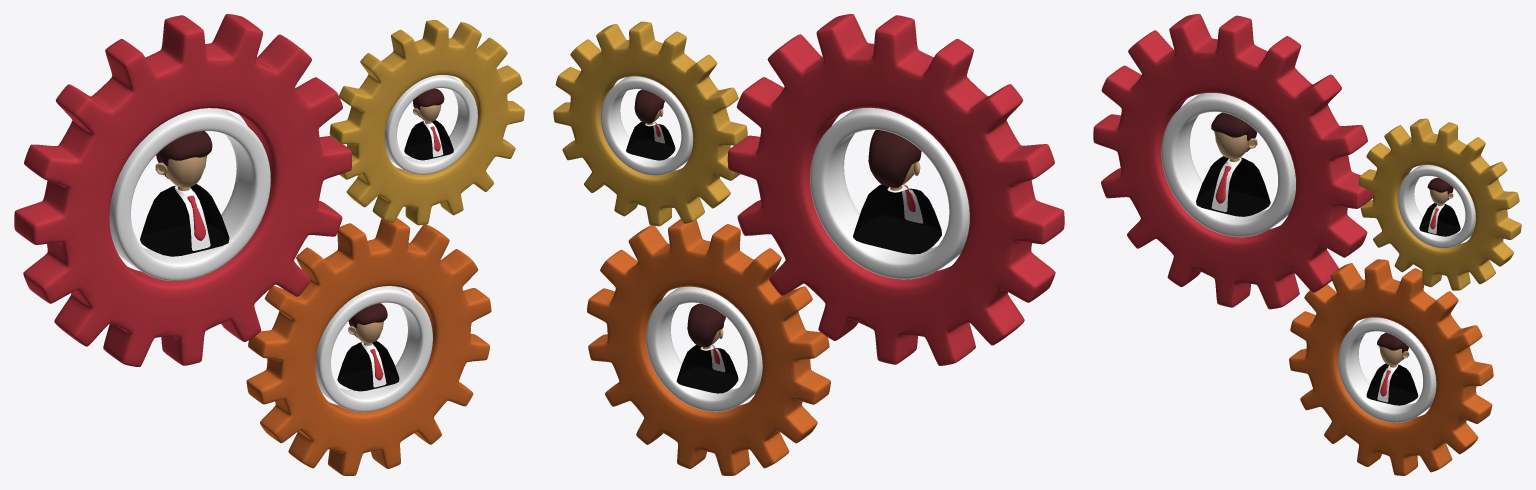
The picture shows the model from 3 angles, left to right: view 1: azimuth 30°, elevation 25°; view 2: azimuth 150°, elevation 25°; view 3: azimuth 330°, elevation 25°; orthographic projection. The views are drawn at different scales.
Parts seen in each view (by area): view 1: 0023; view 2: 0023; view 3: 0023.
Part boxes in pixels (x1,y1,x2,y2): 0023: (14,14,524,475); 0023: (553,14,1064,475); 0023: (1093,14,1521,475).
Bounding box in the file's own units: 2.79 × 2.63 × 0.3333.
